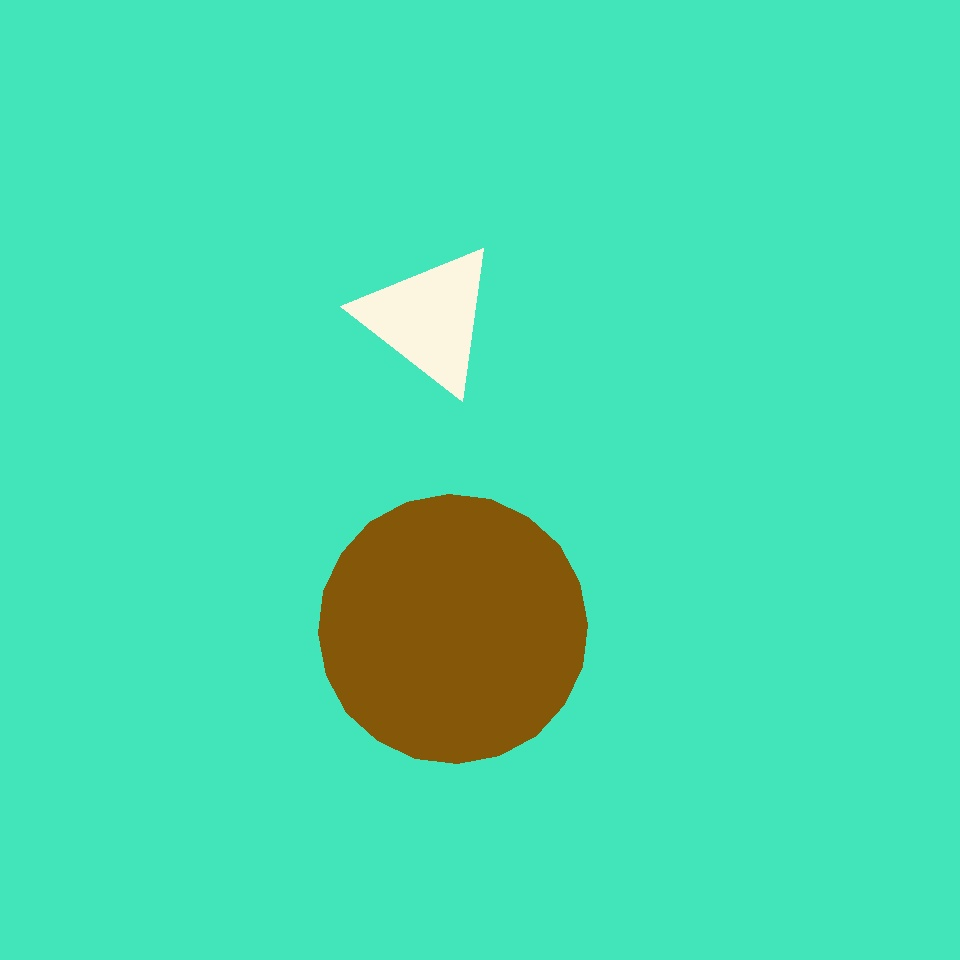circle: (358, 242, 500, 396)
triangle: (318, 494, 588, 764)
